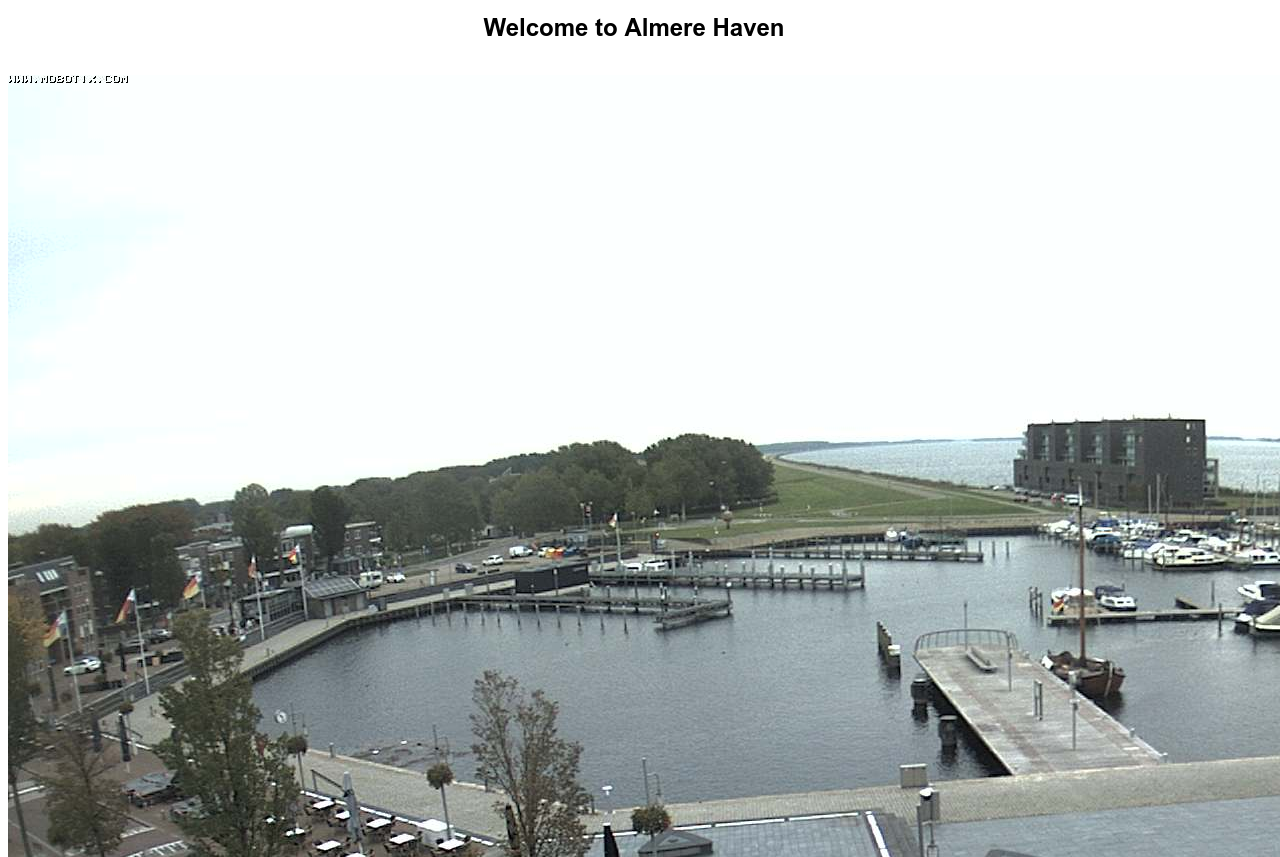maybe: (41, 612, 73, 652), (113, 586, 141, 630), (176, 568, 208, 600), (283, 543, 307, 569)
no: (241, 552, 263, 587)
